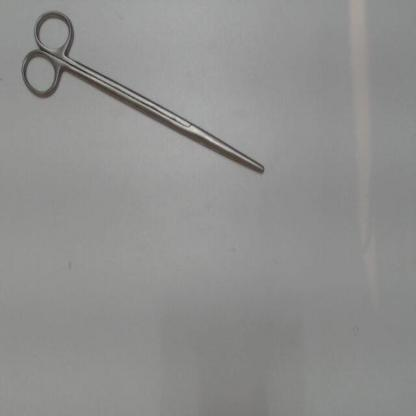9 Metzenbaum Scissors: (16, 3, 267, 178)
